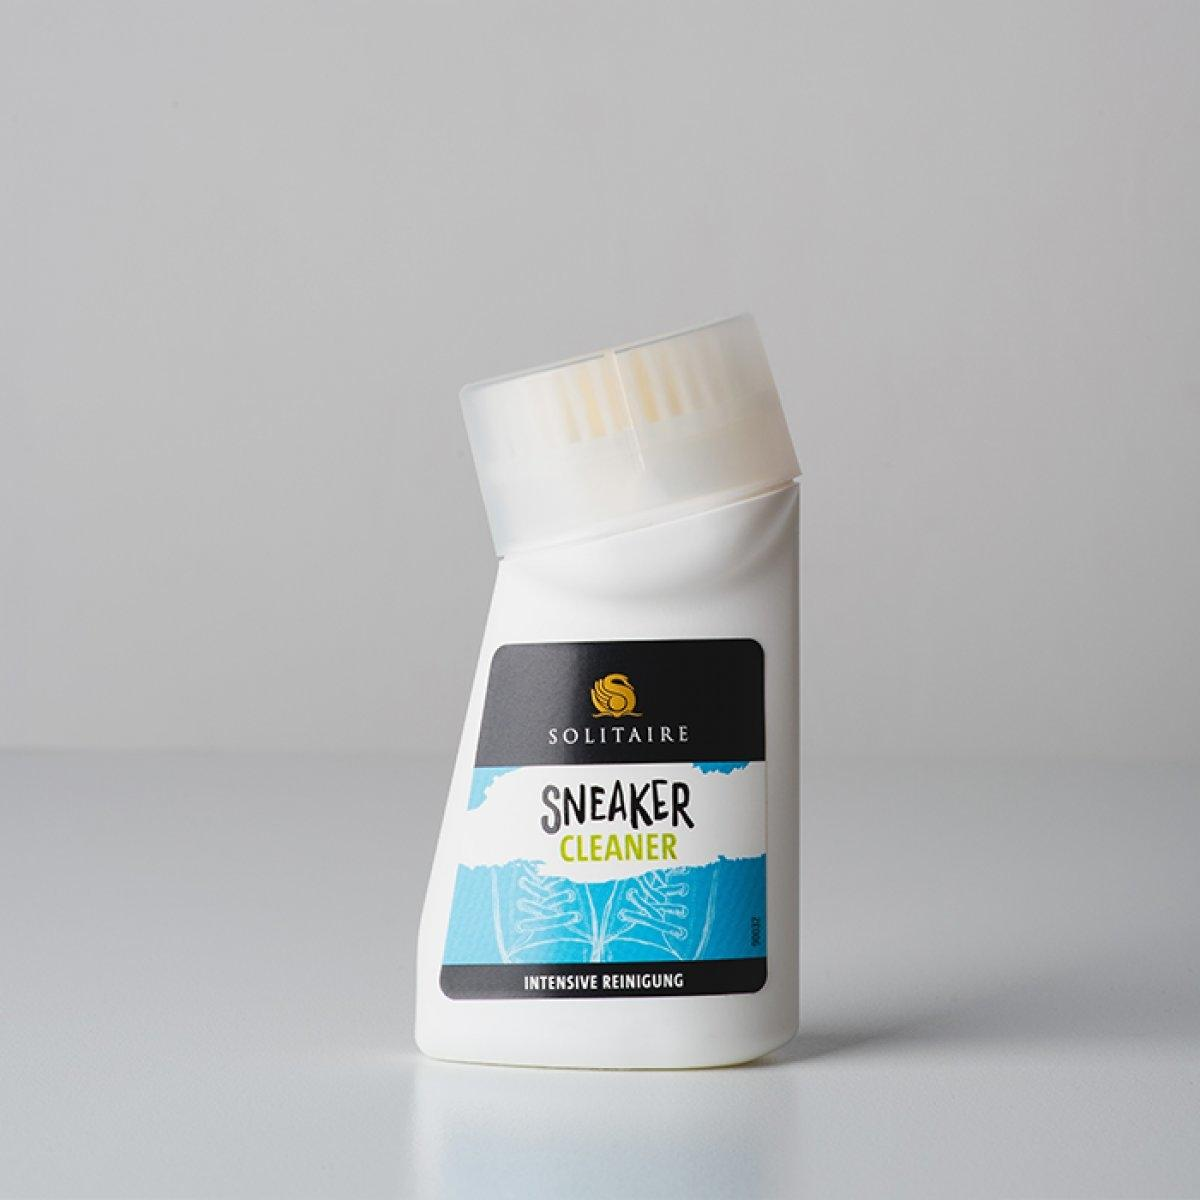Cleaning_solution: (403, 291, 829, 1086)
